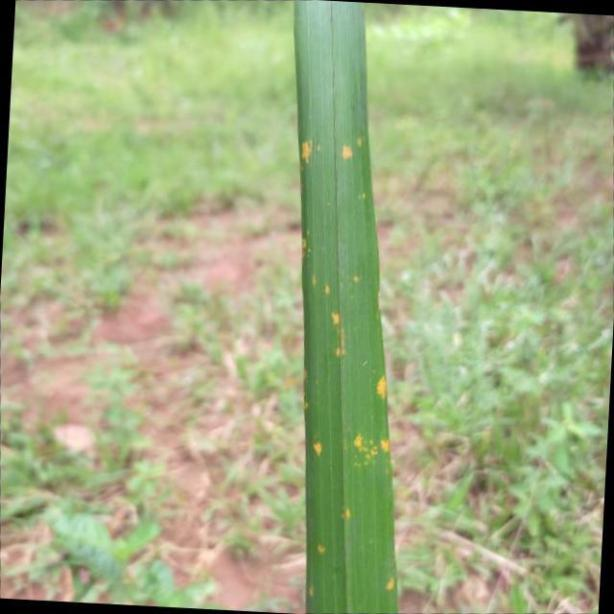Kalium: (294, 0, 395, 614)
